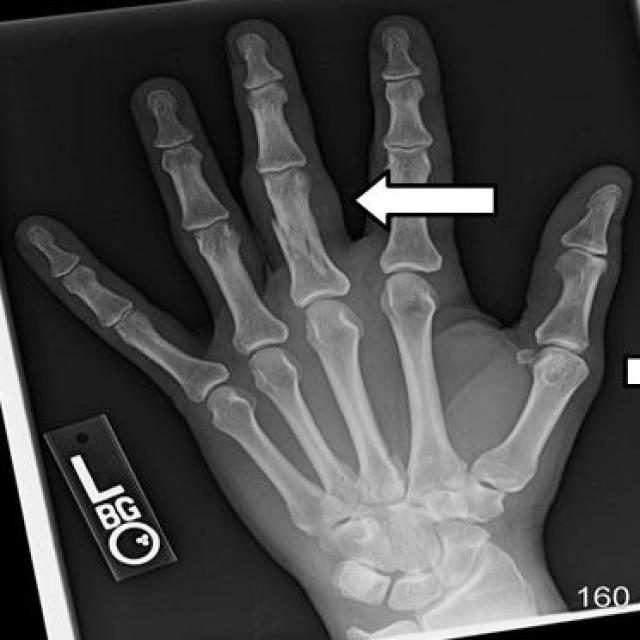fracture: (260, 206, 330, 287)
